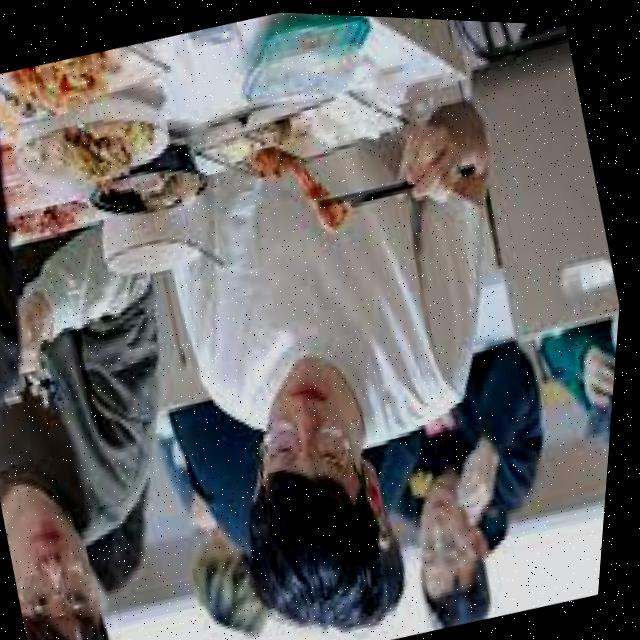eating-person: (62, 26, 615, 640)
